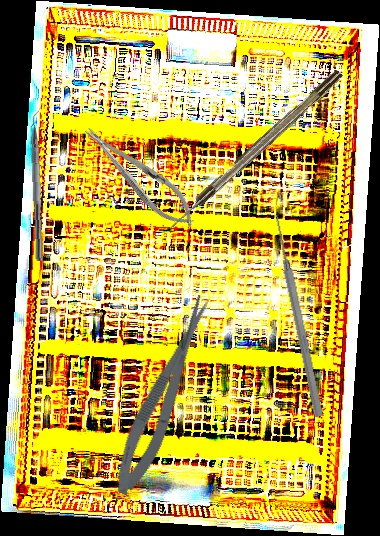Chopper: (27, 103, 54, 261)
Hook Surgical: (165, 68, 345, 233)
Micro Scissor: (104, 291, 225, 501)
Needle Holder: (75, 115, 205, 238)
Pusher: (270, 213, 326, 418)
